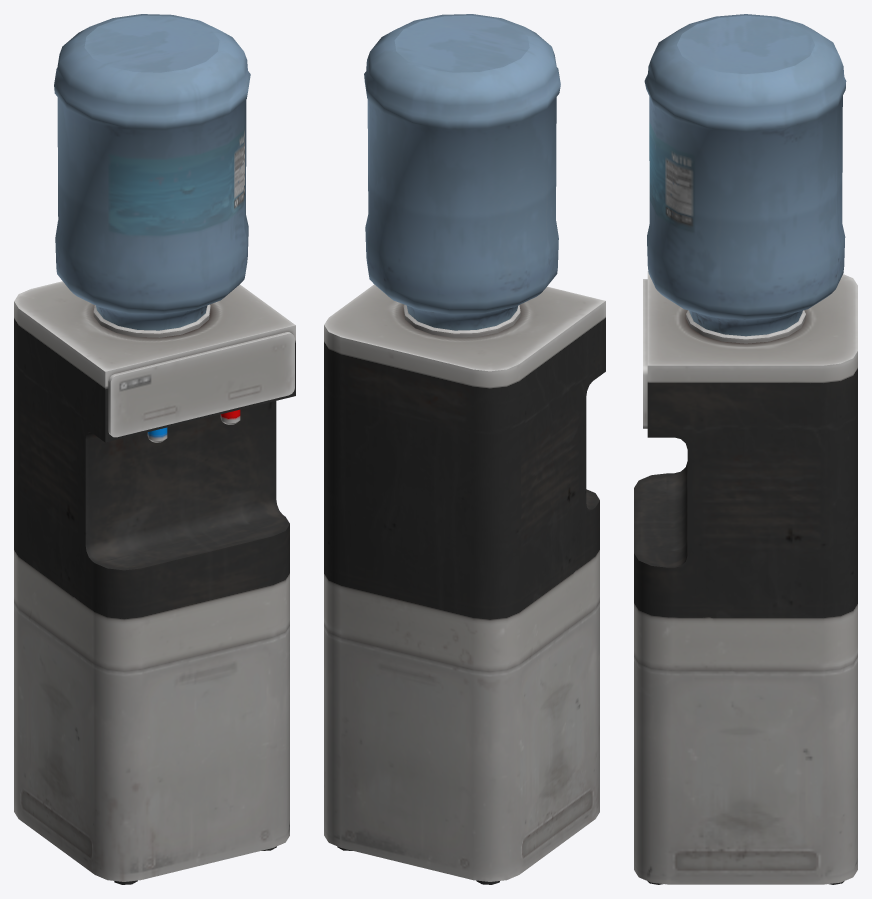
The model's file is SM_Cooler.fbx.
The picture shows the model from 3 angles, left to right: view 1: azimuth 30°, elevation 25°; view 2: azimuth 150°, elevation 25°; view 3: azimuth 270°, elevation 25°; orthographic projection.
Visible parts, largest first — view 1: SM_Cooler_LOD0; view 2: SM_Cooler_LOD0; view 3: SM_Cooler_LOD0.
Part boxes in pixels (x1,y1,x2,y2): SM_Cooler_LOD0: [14, 14, 295, 884]; SM_Cooler_LOD0: [324, 14, 605, 884]; SM_Cooler_LOD0: [634, 14, 857, 884].
Size of the model in its own units: 44.22 by 44.22 by 174.
